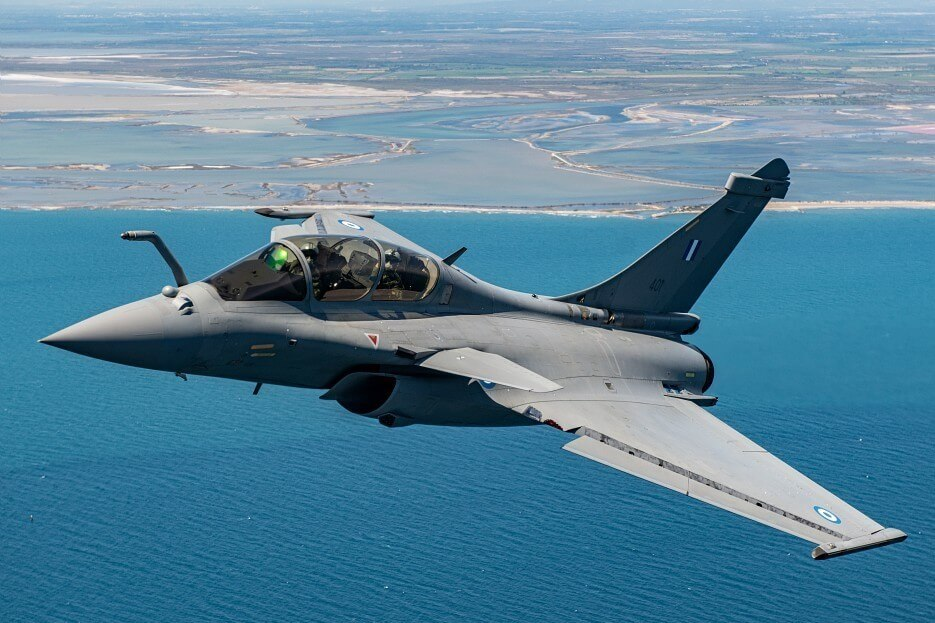Rafale: (36, 157, 909, 562)
